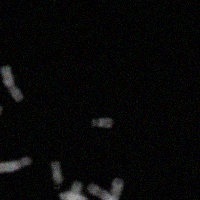chromosome: (0, 64, 23, 101), (87, 179, 122, 200), (0, 157, 31, 173), (63, 180, 83, 200), (50, 161, 63, 184), (60, 191, 85, 200), (90, 118, 111, 128)
